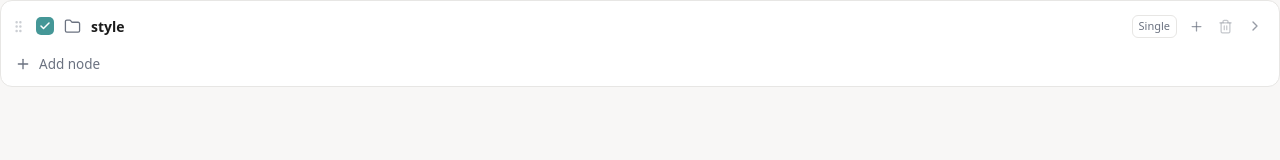
Test: PromptTree drag reorder › passes single-select to the children of a select=one folder
Click the button with test id "expand-btn" at [1255, 26], box [1245,16,1265,36]
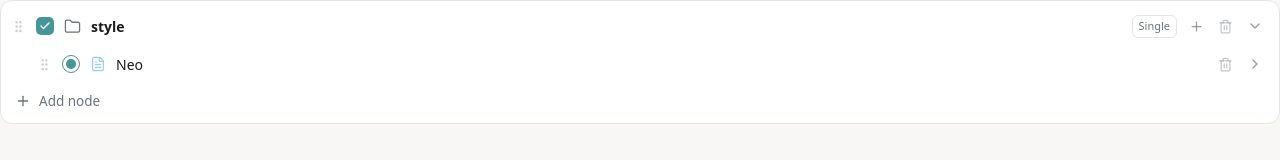
Result: the button with test id "enable-radio" is shown at [62,55,80,73]
